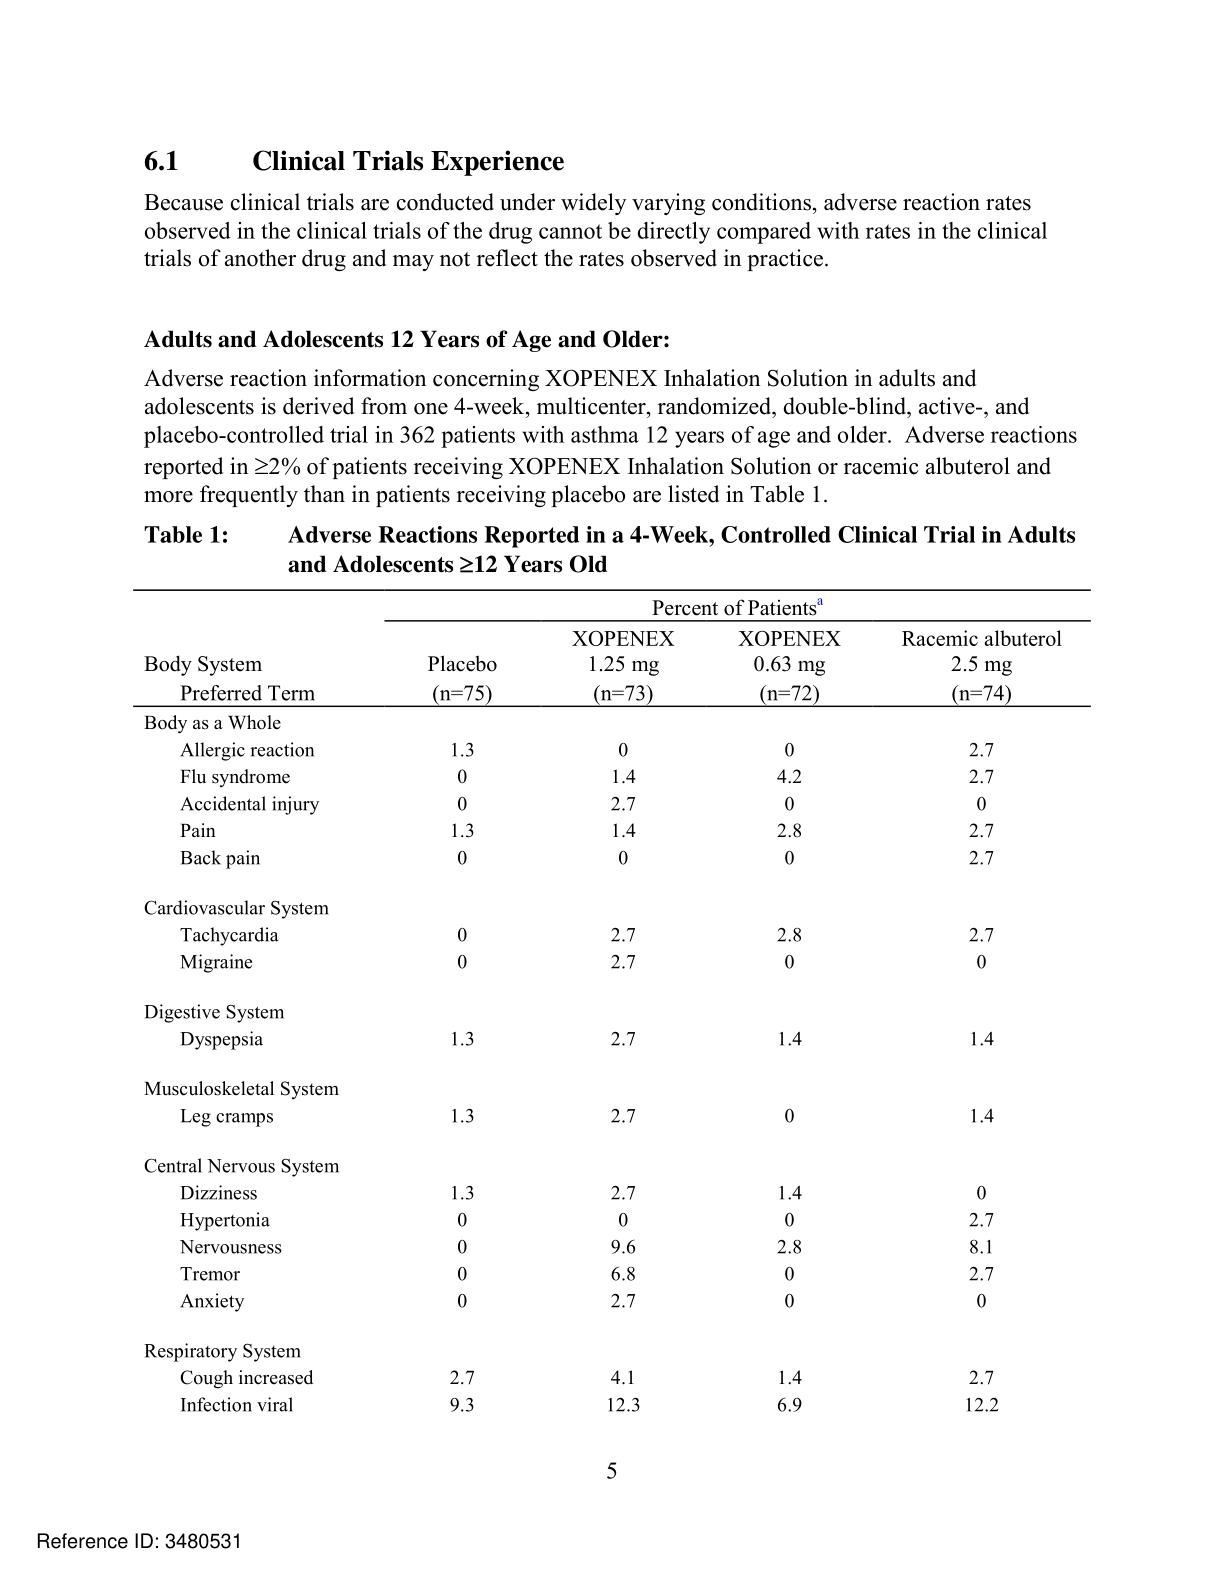partial_lined_merged_cells: (132, 588, 1093, 1419)
